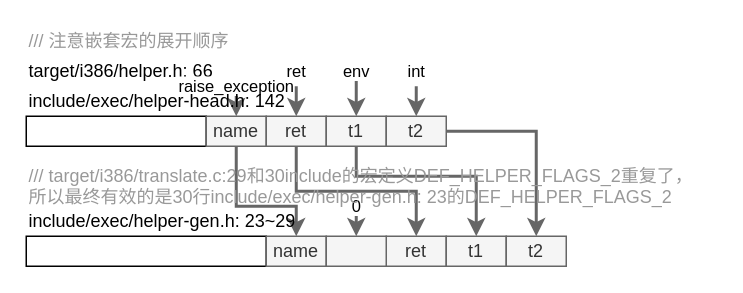
Image size: 743x293. Some labels were removed from this diagram. The box of each missing label's shape, as (x1, y1, x2, y2) in pixels:
DEF_HELPER_FLAGS_2: (25, 235, 266, 266)
DEF_HELPERE_2: (25, 115, 206, 146)
flags: (325, 235, 386, 266)
